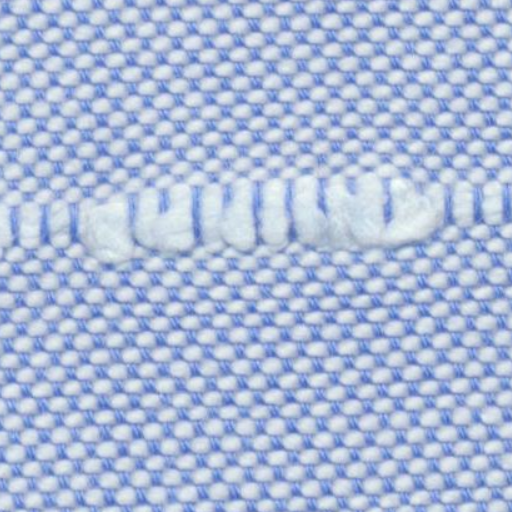DaiSha: (4, 164, 504, 266)
